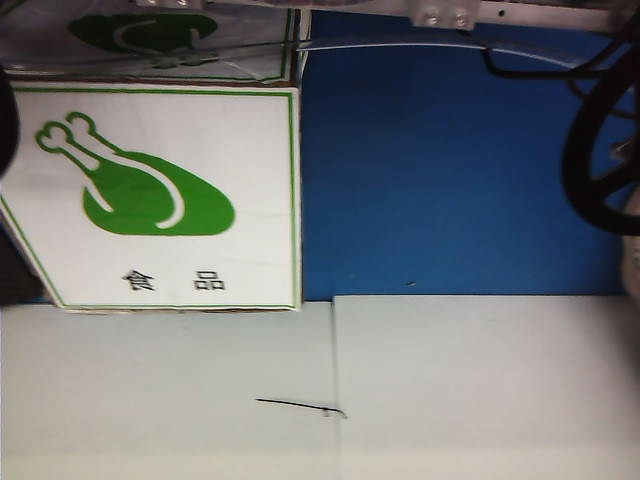Cube_food: (31, 103, 252, 301)
